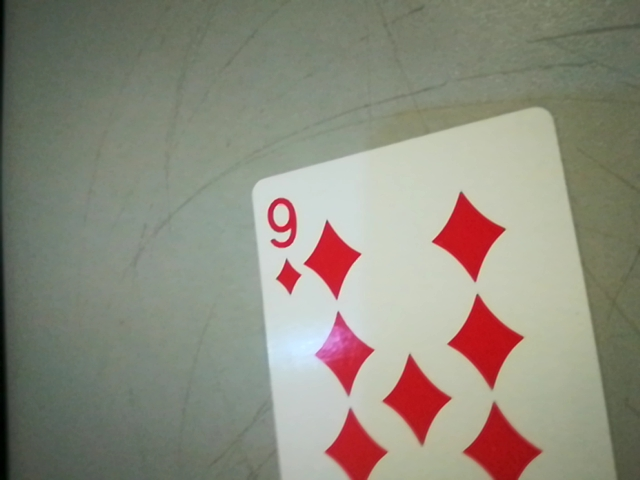fk 9: (254, 187, 314, 300)
